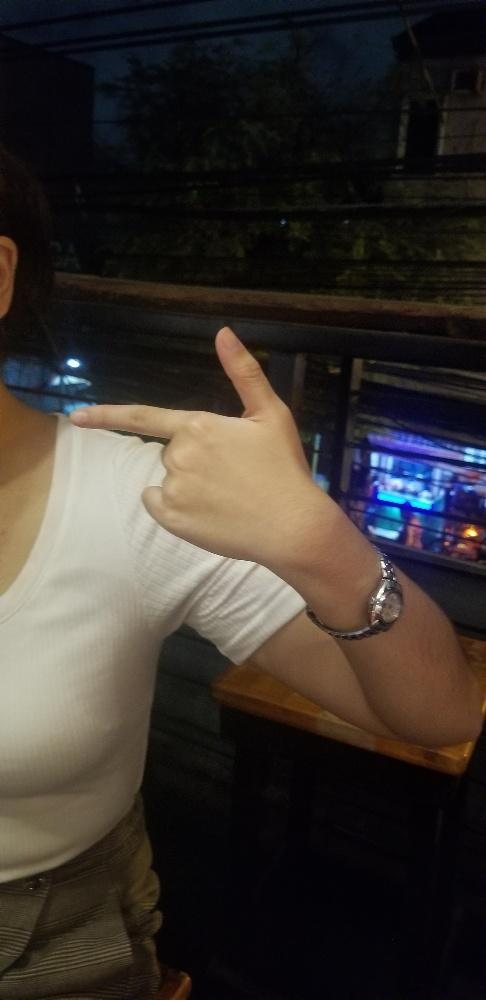g: (67, 323, 305, 562)
